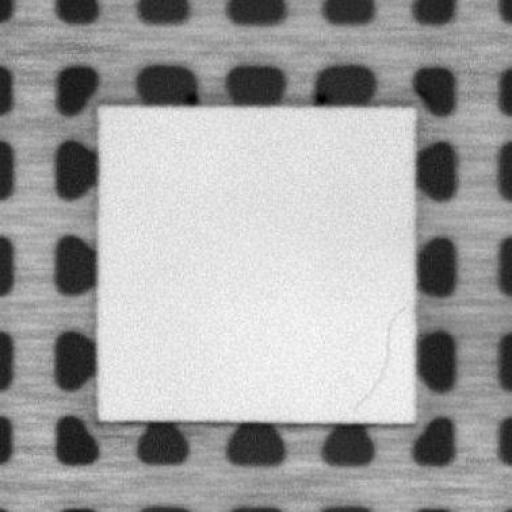DIE_CRACK: (355, 304, 406, 408)
